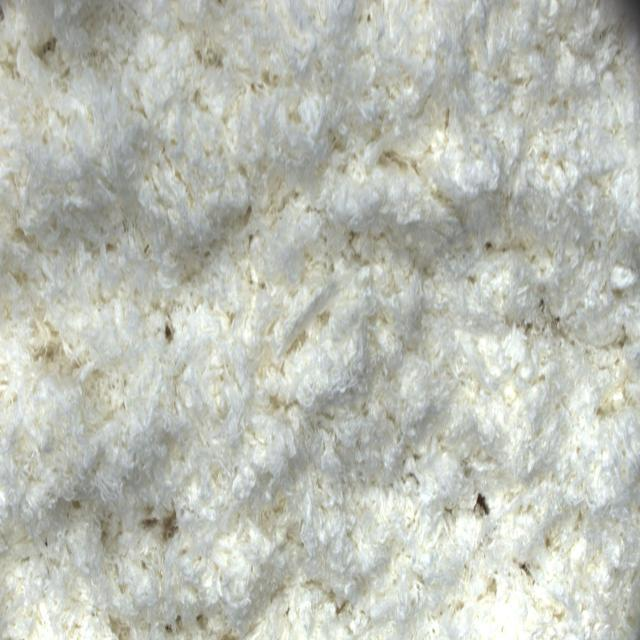dust: (473, 490, 496, 521)
